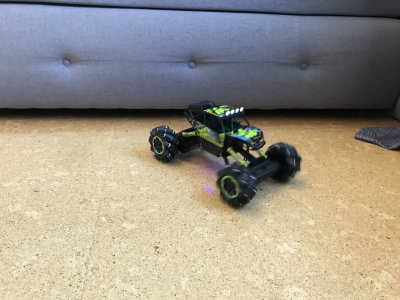remote control car: (143, 97, 305, 210)
